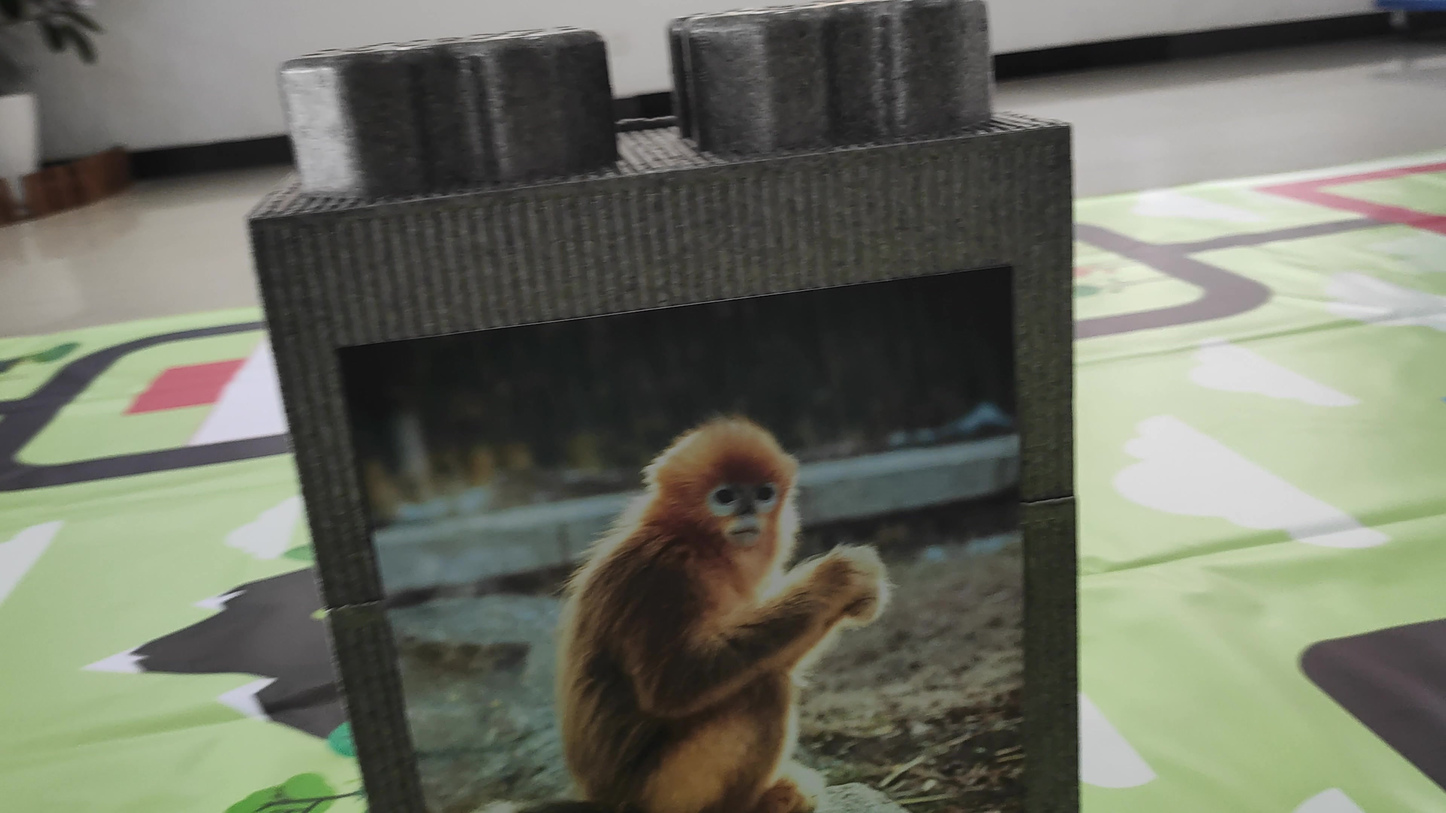monkey: (538, 361, 947, 809)
